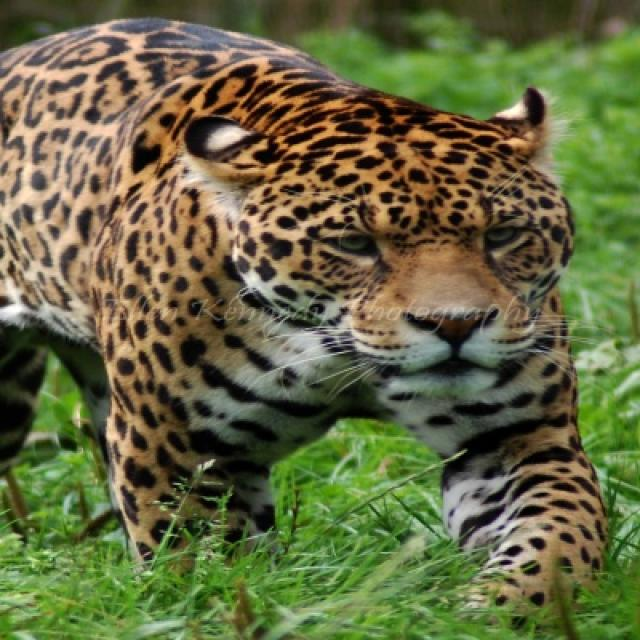Jaguar: (0, 16, 610, 632)
